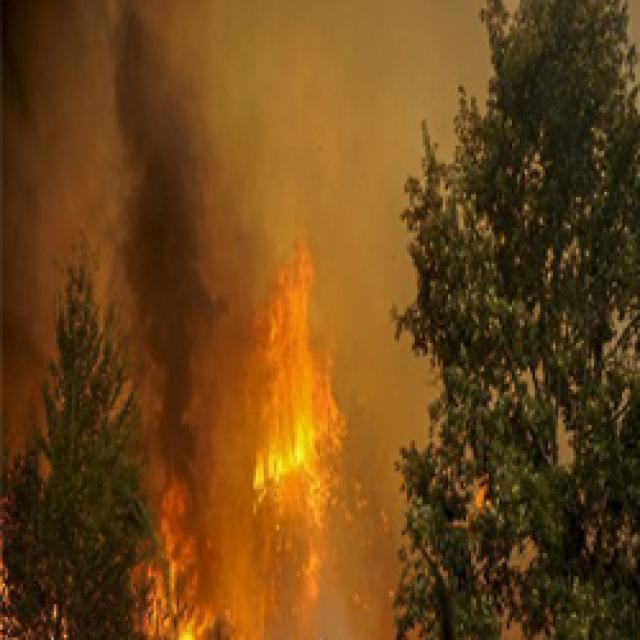Fire: (243, 241, 346, 640), (112, 482, 226, 640), (0, 548, 59, 638), (348, 478, 391, 529), (349, 582, 396, 616)
Smoke: (99, 0, 240, 481), (245, 0, 480, 234), (0, 0, 105, 489), (328, 235, 442, 448)
